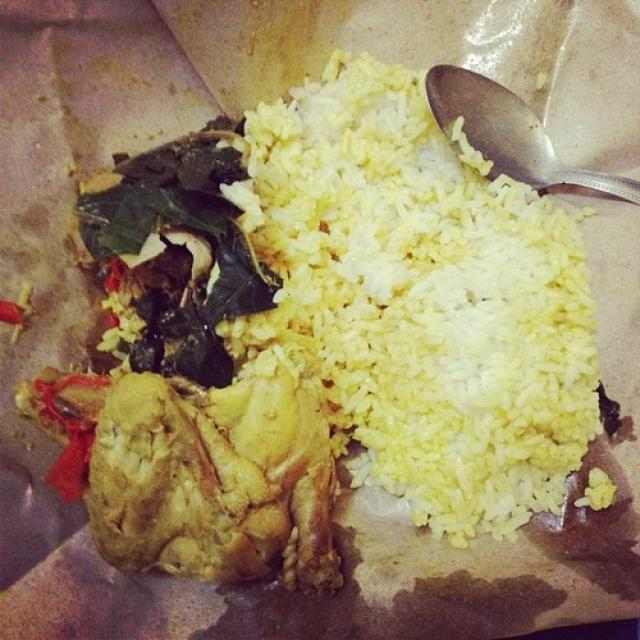米饭主食: (8, 16, 620, 618)
